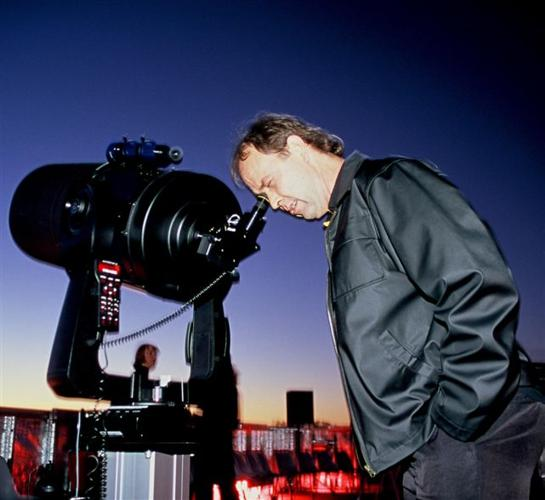person: (236, 110, 540, 497)
